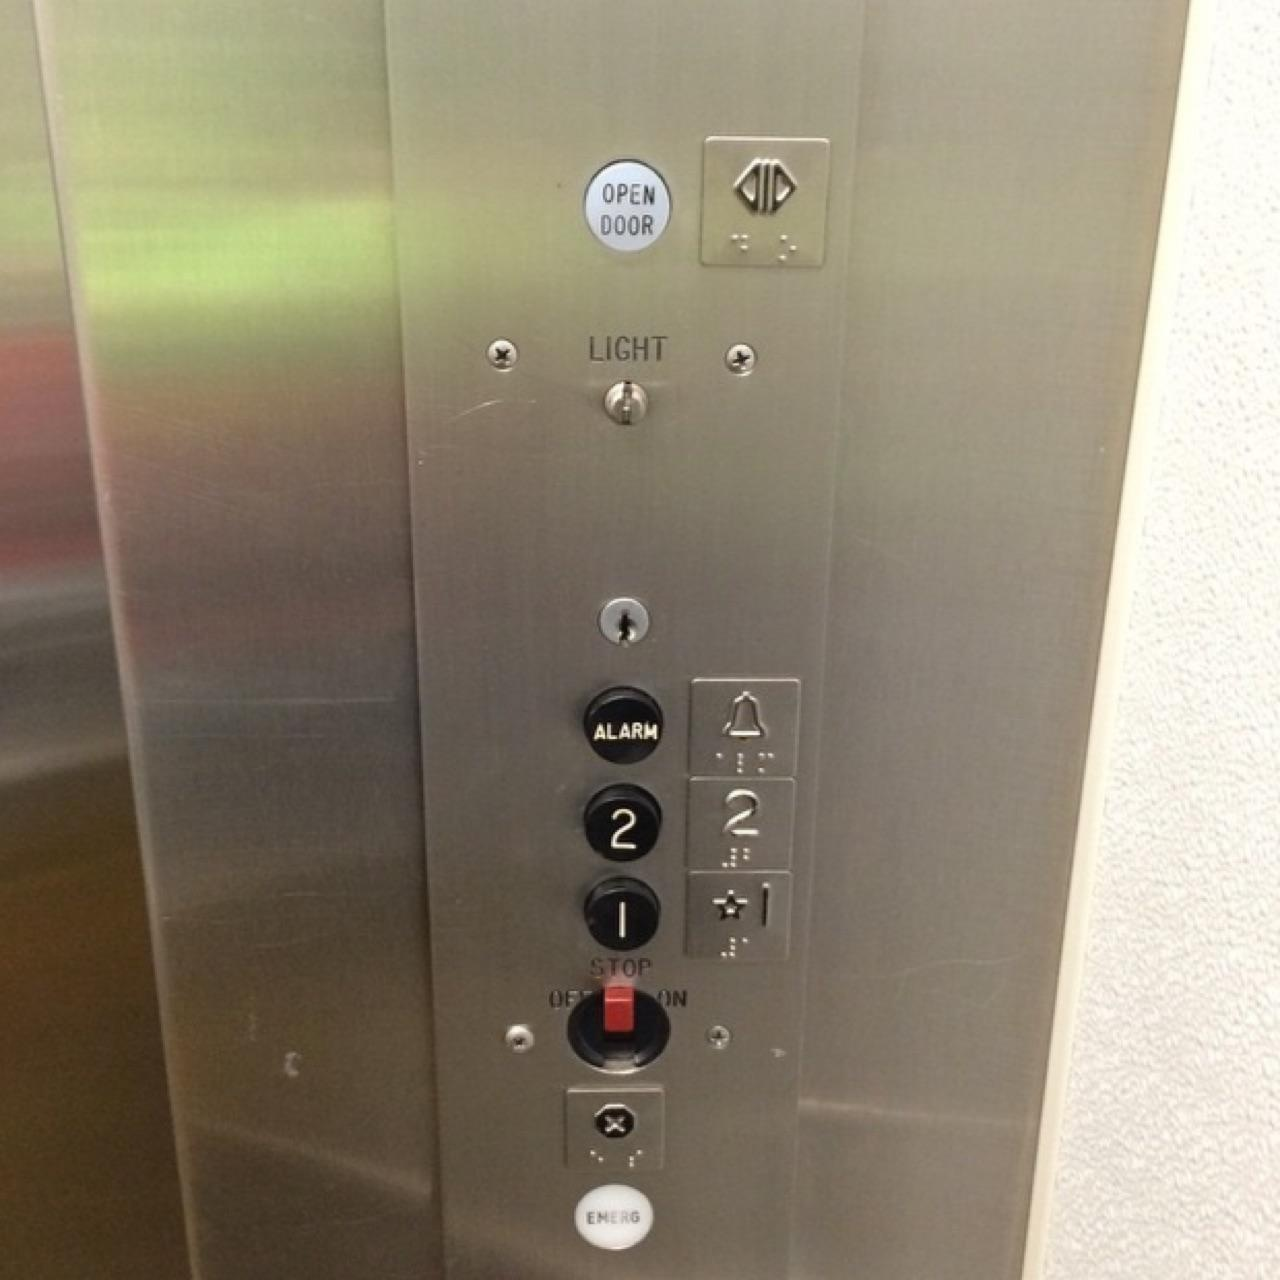1: (583, 874, 665, 951)
2: (681, 771, 796, 873), (580, 778, 667, 867)
alarm: (683, 674, 804, 787)
bt_switch: (565, 981, 676, 1075)
keyhole: (594, 585, 658, 663)
open: (694, 128, 835, 278)
s1: (683, 869, 794, 975)
stop: (559, 1082, 670, 1183)
text_alarm: (579, 681, 667, 768)
text_emerg: (568, 1179, 661, 1253)
text_open: (579, 154, 678, 256)
